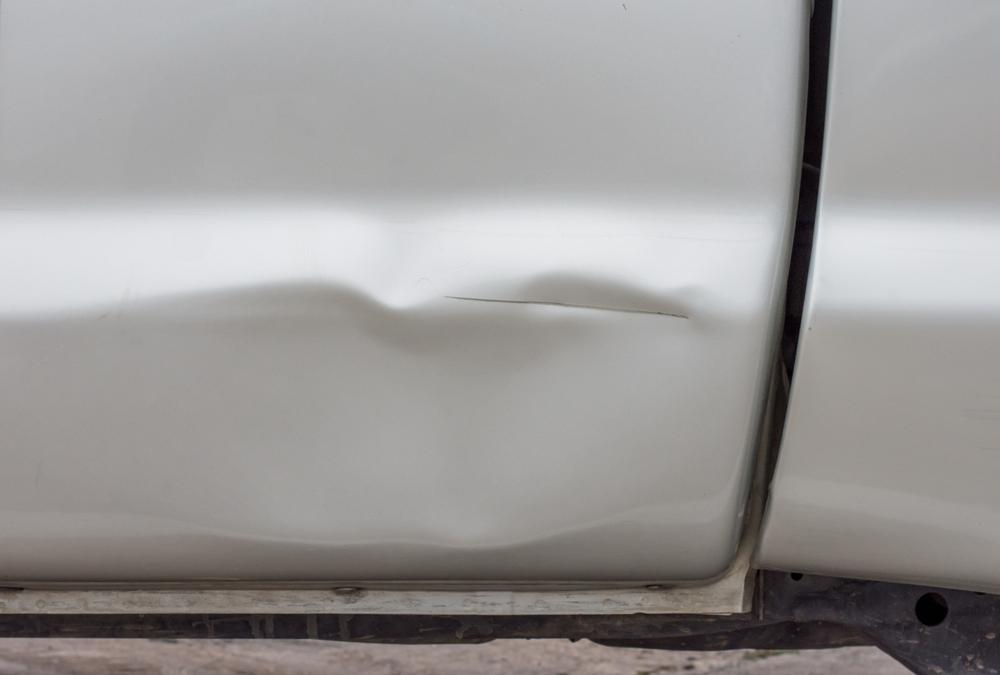dent: (100, 273, 697, 548)
